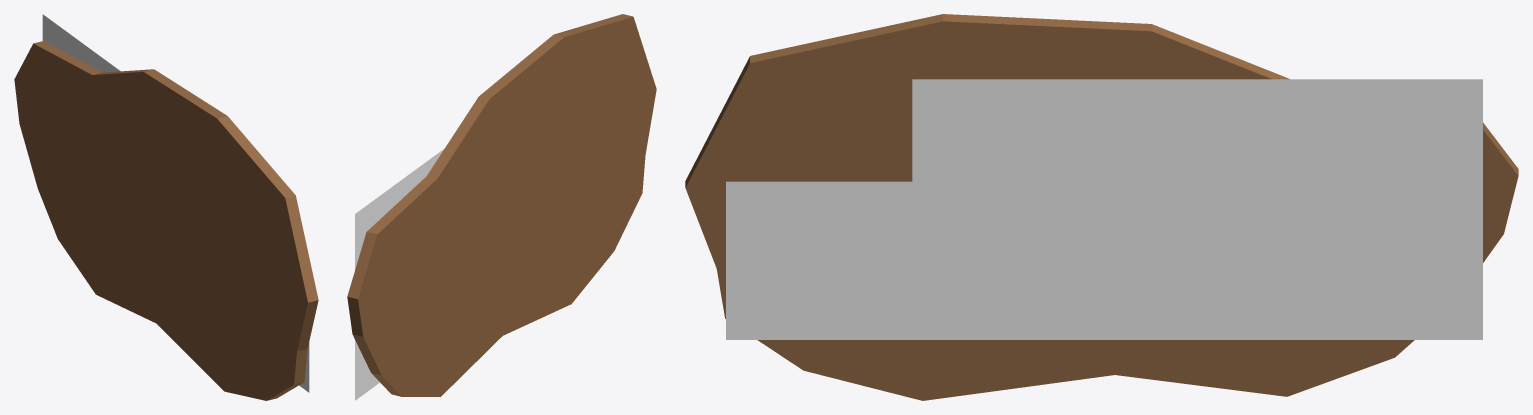
File: SignNochain.fbx
3 renders of one model, left to right at view 1: azimuth 30°, elevation 25°; view 2: azimuth 150°, elevation 25°; view 3: azimuth 270°, elevation 25°, orthographic. The views are drawn at different scales.
Visible parts, largest first — view 1: SignShop.001; view 2: SignShop.001; view 3: SignShop.001.
Boxes of the visible parts, x1,y1,x2,y2 form: SignShop.001: [14, 14, 318, 400]; SignShop.001: [347, 14, 656, 400]; SignShop.001: [685, 14, 1518, 400].
Size of the model in its own units: 6.76 by 111 by 220.
2 materials, 2 textured.
